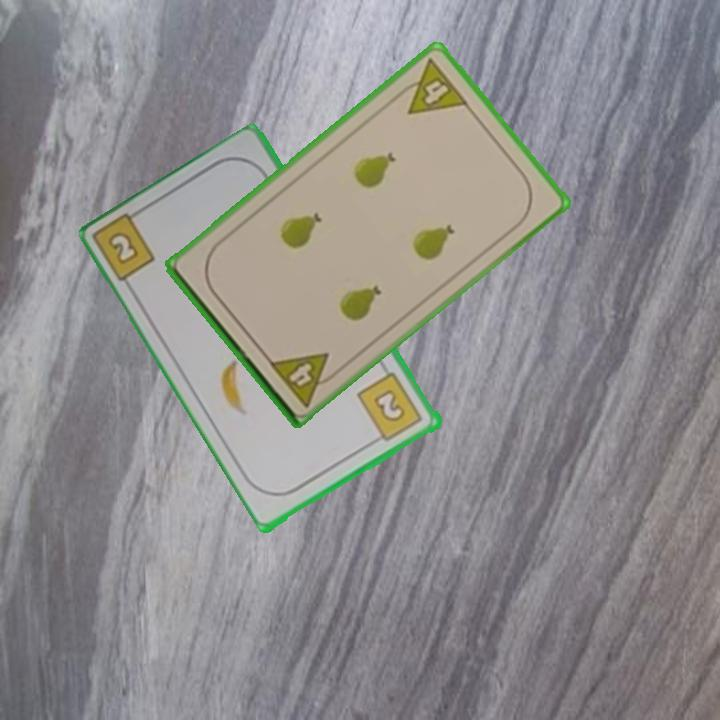2b: (354, 369, 426, 447), (92, 206, 159, 286)
4p: (391, 55, 471, 118), (265, 348, 343, 410)
